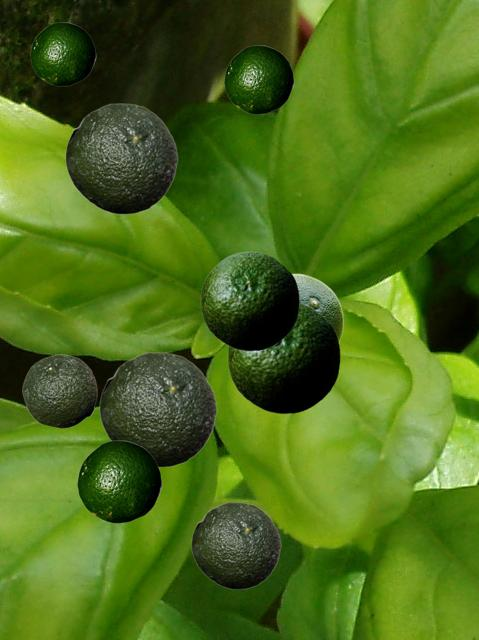calamansi: (99, 352, 216, 466), (227, 302, 339, 413), (65, 103, 177, 213), (200, 251, 298, 350), (191, 502, 280, 588), (77, 440, 161, 522), (22, 354, 96, 427), (224, 45, 293, 113), (30, 22, 95, 85), (293, 273, 343, 341)
